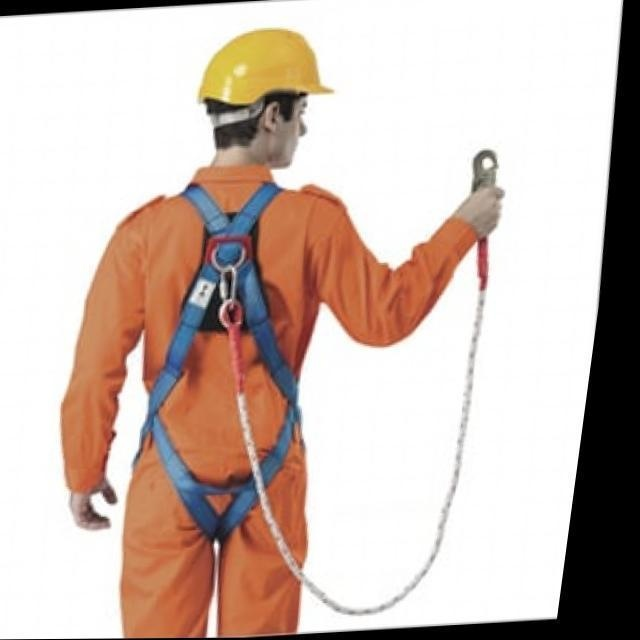Arnes_seguridad: (137, 179, 302, 543)
